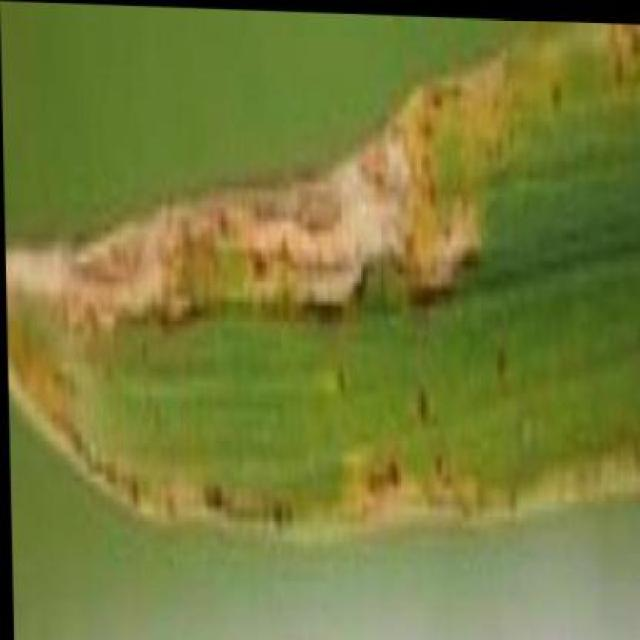Brown_Spot: (12, 142, 640, 556)
